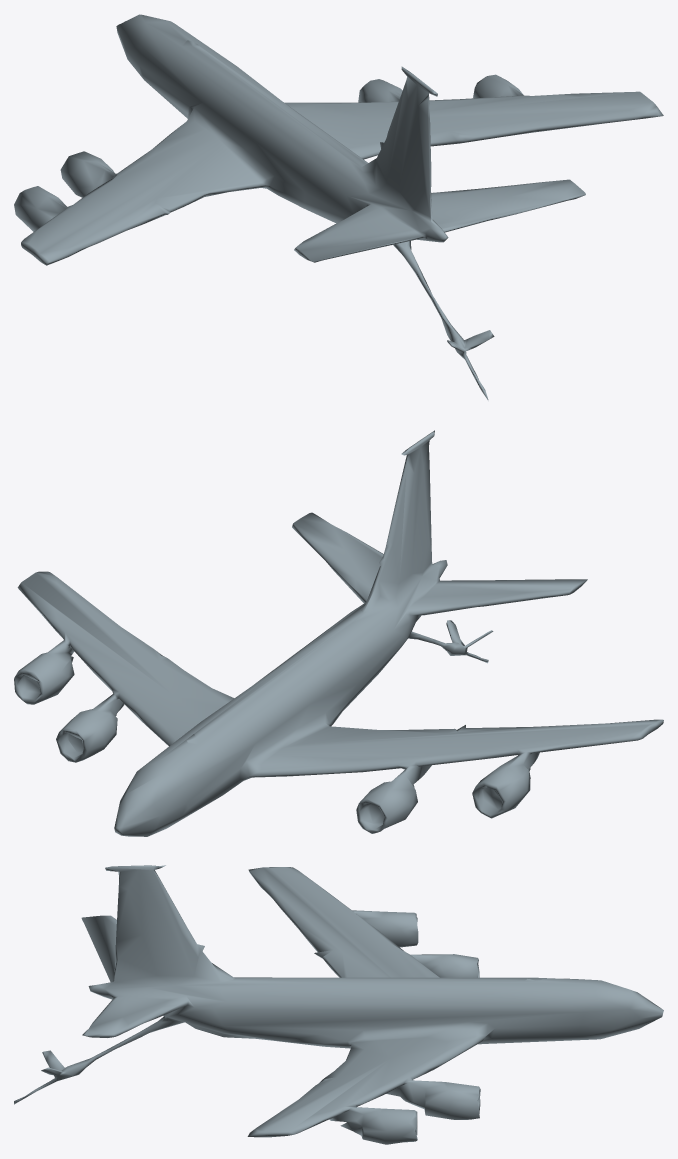
Rendered from model-aircraft-tn-1.glb.
3 views of the same model, one above another, from view 1: azimuth 30°, elevation 25°; view 2: azimuth 150°, elevation 25°; view 3: azimuth 270°, elevation 25° (orthographic). The views are drawn at different scales.
Size of the model in its own units: 43.97 by 18.46 by 45.44.
